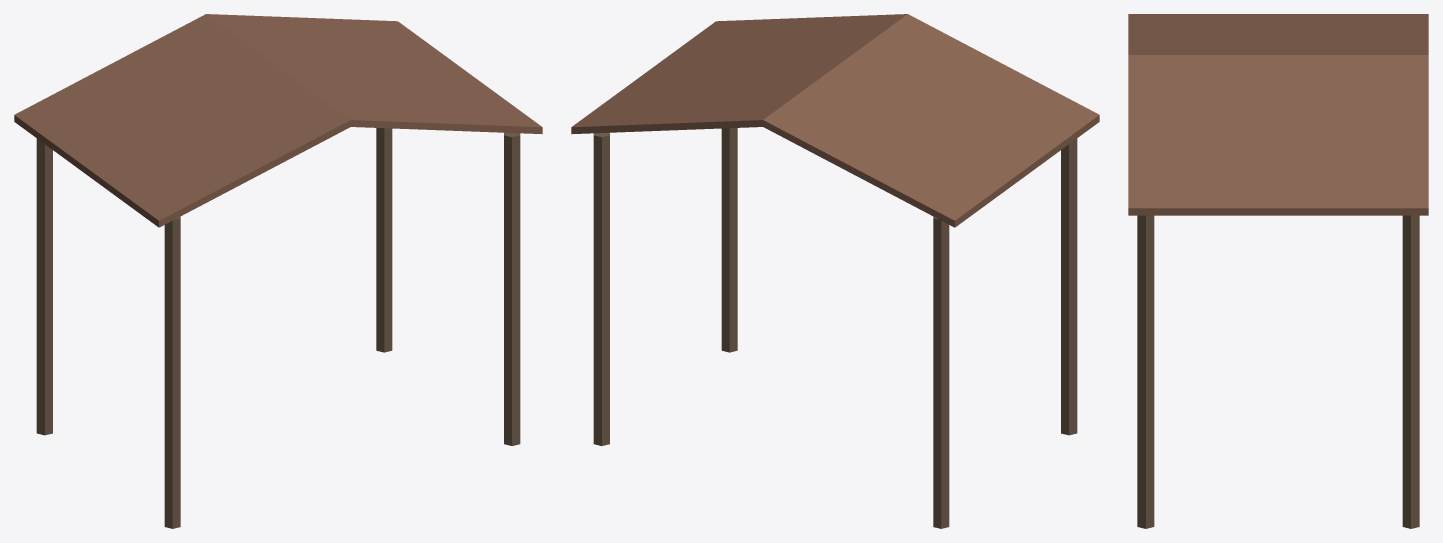
File: sail-awning.glb
3 views of the same model, side by side, from view 1: azimuth 30°, elevation 25°; view 2: azimuth 150°, elevation 25°; view 3: azimuth 270°, elevation 25° (orthographic). The views are drawn at different scales.
Visible parts, largest first — view 1: sail-awning__body; view 2: sail-awning__body; view 3: sail-awning__body.
Part boxes in pixels (box(x1,y1,x2,y2)): sail-awning__body: box(14, 14, 542, 528); sail-awning__body: box(571, 14, 1099, 528); sail-awning__body: box(1128, 14, 1428, 528).
Bounding box in the file's own units: 2.6 × 2.39 × 1.7.
